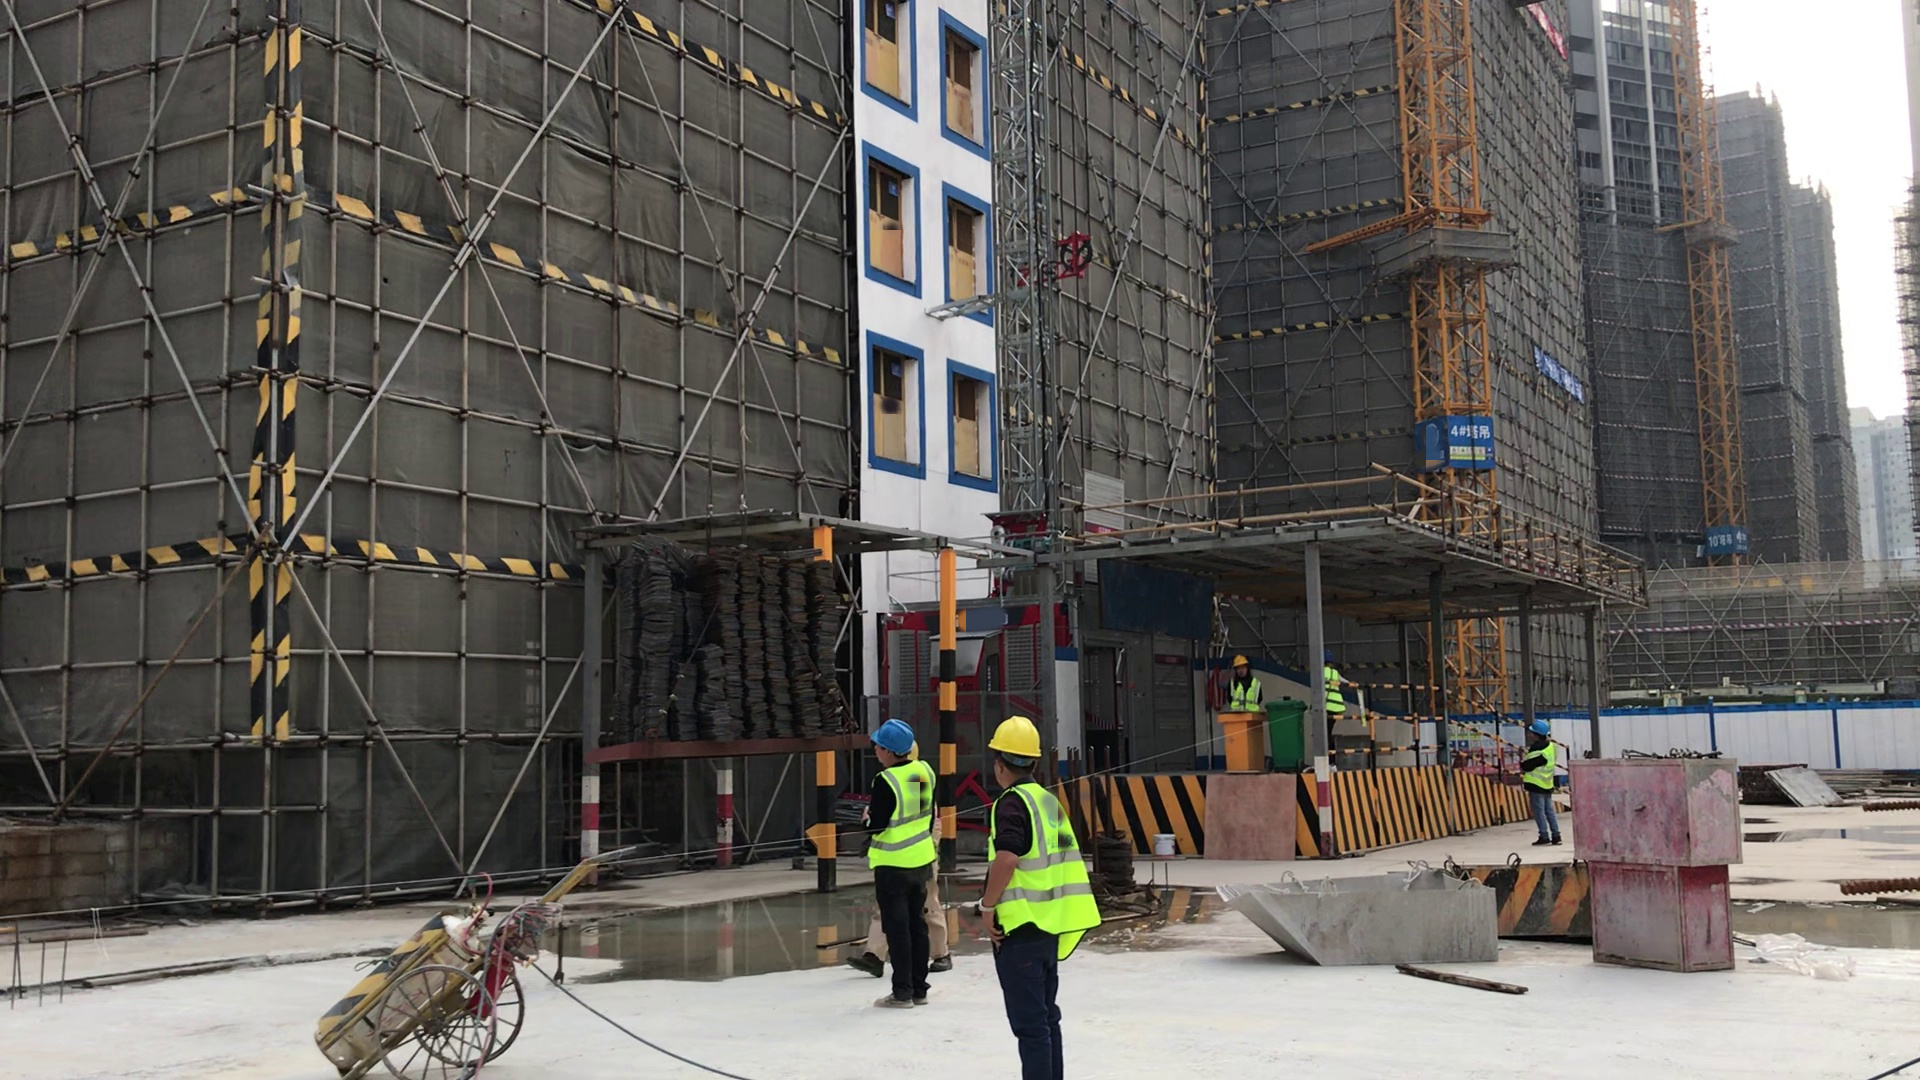fence: (1321, 672, 1529, 782)
handcart: (292, 847, 627, 1080)
helmet: (985, 708, 1055, 773), (865, 708, 923, 766), (1525, 707, 1559, 743), (1227, 649, 1252, 679)
hopper: (1191, 822, 1522, 1000)
person: (965, 706, 1127, 1080), (848, 697, 966, 1010), (1508, 706, 1573, 851), (1215, 641, 1270, 729), (1316, 653, 1361, 756)
slogan: (1410, 397, 1511, 480), (1518, 335, 1590, 412), (1695, 518, 1780, 574), (1511, 3, 1576, 59)
vest: (984, 781, 1113, 964), (856, 755, 939, 876), (1511, 737, 1562, 795), (1226, 675, 1268, 714), (1321, 663, 1349, 720)
